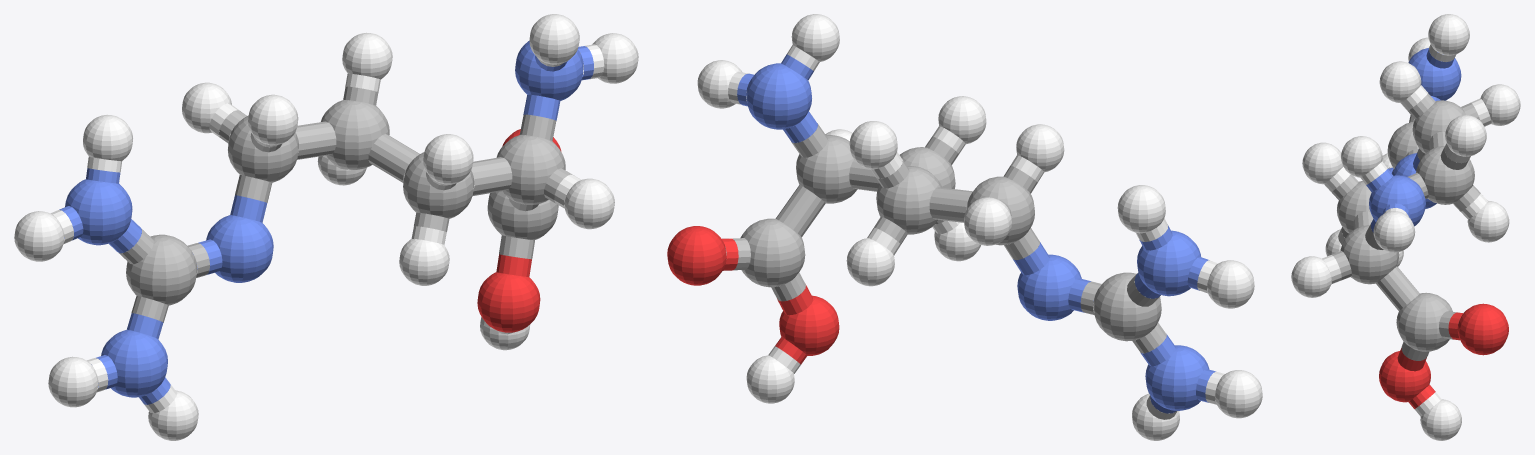
File: arginine.glb
3 views of the same model, side by side, from view 1: azimuth 30°, elevation 25°; view 2: azimuth 150°, elevation 25°; view 3: azimuth 270°, elevation 25° (orthographic). The views are drawn at different scales.
Parts seen in each view (by area): view 1: ShapeSphere.011, ShapeSphere.003, ShapeSphere.004, ShapeSphere.005, ShapeSphere.007, ShapeSphere.008, ShapeSphere, ShapeSphere.009, ShapeSphere.006, ShapeSphere.002, ShapeSphere.010, ShapeSphere.020 (+24 smaller); view 2: ShapeSphere.002, ShapeSphere.010, ShapeSphere.011, ShapeSphere.007, ShapeSphere.001, ShapeSphere.003, ShapeSphere.004, ShapeSphere.008, ShapeSphere.005, ShapeSphere, ShapeSphere.009, ShapeSphere.018 (+20 smaller); view 3: ShapeSphere.010, ShapeSphere.001, ShapeSphere.007, ShapeSphere.008, ShapeSphere.002, ShapeSphere, ShapeSphere.005, ShapeSphere.009, ShapeSphere.019, ShapeSphere.014, ShapeSphere.025, ShapeSphere.016 (+32 smaller).
Boxes of the visible parts, <box> form: ShapeSphere.011: <box>126,234,197,305</box>; ShapeSphere.003: <box>206,215,273,282</box>; ShapeSphere.004: <box>101,329,167,397</box>; ShapeSphere.005: <box>65,179,132,245</box>; ShapeSphere.007: <box>321,100,389,169</box>; ShapeSphere.008: <box>496,134,565,204</box>; ShapeSphere: <box>477,272,540,332</box>; ShapeSphere.009: <box>228,115,298,182</box>; ShapeSphere.006: <box>403,152,474,218</box>; ShapeSphere.002: <box>515,41,583,100</box>; ShapeSphere.010: <box>487,191,558,240</box>; ShapeSphere.020: <box>529,14,579,64</box>; ShapeSphere.002: <box>746,63,811,129</box>; ShapeSphere.010: <box>740,218,805,287</box>; ShapeSphere.011: <box>1093,272,1161,341</box>; ShapeSphere.007: <box>876,166,941,234</box>; ShapeSphere.001: <box>667,226,726,285</box>; ShapeSphere.003: <box>1017,254,1081,320</box>; ShapeSphere.004: <box>1145,345,1209,410</box>; ShapeSphere.008: <box>796,135,857,203</box>; ShapeSphere.005: <box>1137,230,1200,296</box>; ShapeSphere: <box>779,295,839,355</box>; ShapeSphere.009: <box>967,176,1034,245</box>; ShapeSphere.018: <box>964,197,1011,245</box>; ShapeSphere.010: <box>1396,292,1452,351</box>; ShapeSphere.001: <box>1457,303,1508,355</box>; ShapeSphere.007: <box>1416,146,1474,204</box>; ShapeSphere.008: <box>1340,225,1399,284</box>; ShapeSphere.002: <box>1369,175,1425,226</box>; ShapeSphere: <box>1379,351,1430,402</box>; ShapeSphere.005: <box>1408,48,1461,100</box>; ShapeSphere.009: <box>1412,100,1465,153</box>; ShapeSphere.019: <box>1373,211,1415,252</box>; ShapeSphere.014: <box>1445,115,1486,156</box>; ShapeSphere.025: <box>1428,14,1469,55</box>; ShapeSphere.016: <box>1291,256,1332,297</box>.
Bounding box in the file's own units: 9.77 × 5.74 × 3.95.
